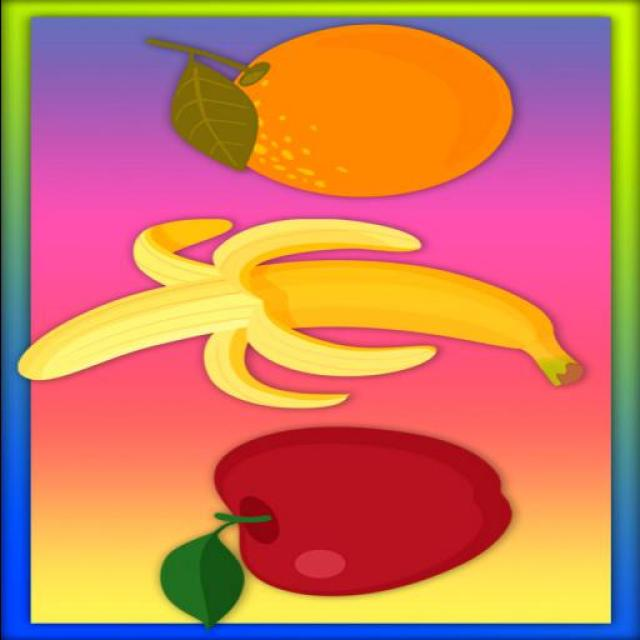Apple: (157, 427, 510, 626)
Banana: (15, 218, 584, 409)
Orange: (144, 27, 510, 197)
